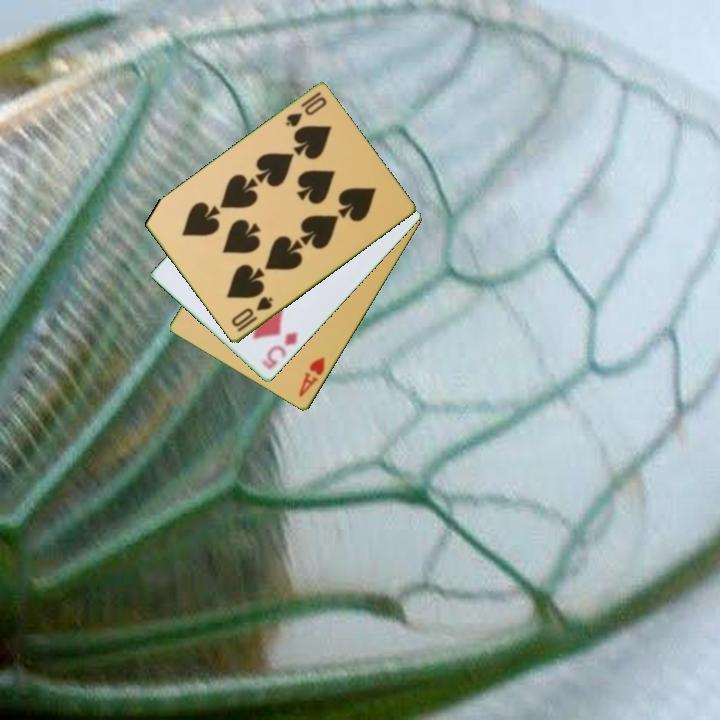10s: (228, 293, 276, 335), (282, 88, 330, 130)
5d: (258, 329, 301, 373)
Ah: (295, 354, 328, 400)
